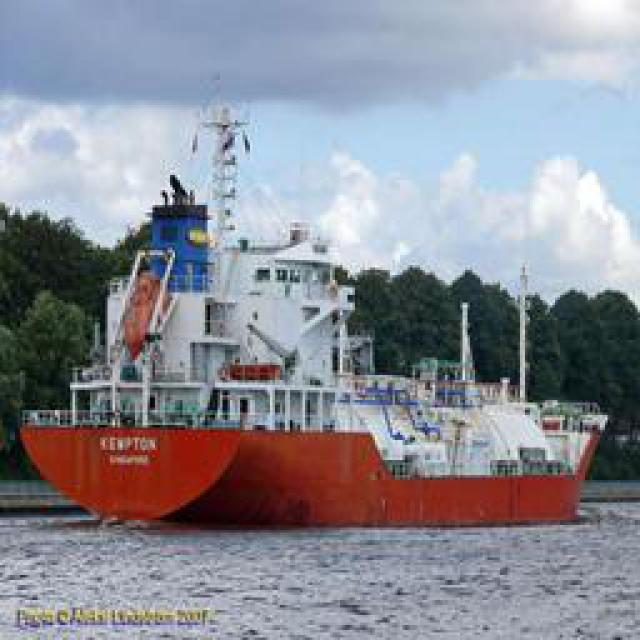Ship: (23, 90, 640, 525)
